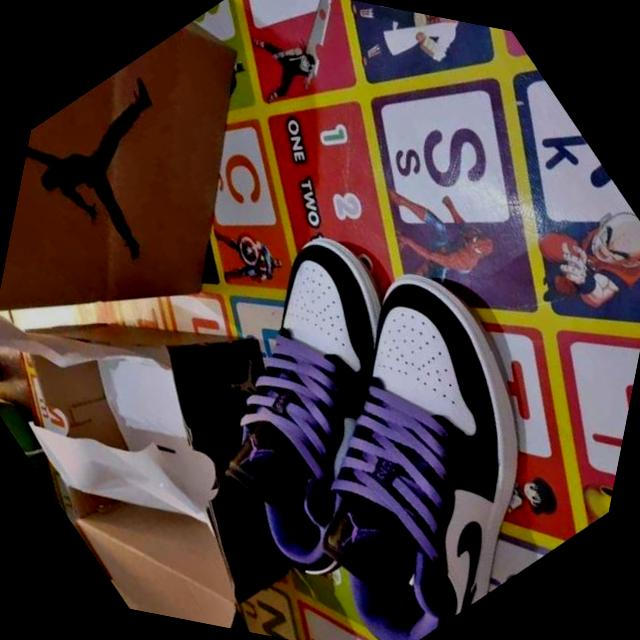nike_fake_jordan: (174, 218, 640, 640), (99, 189, 532, 622)
